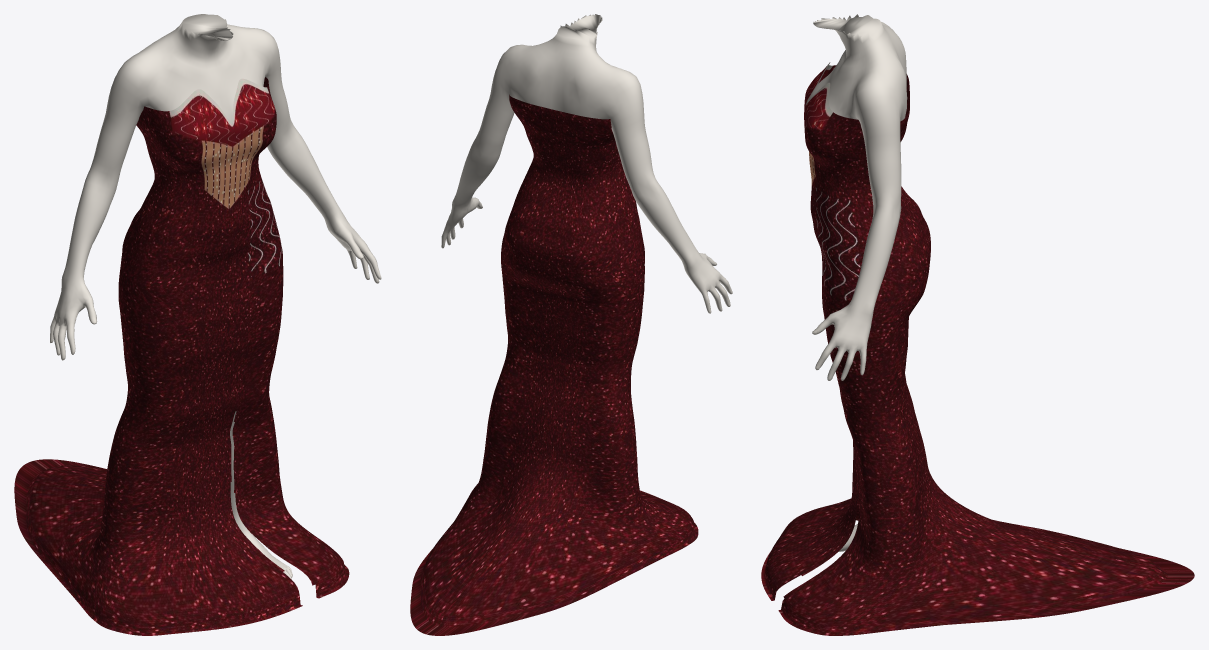
File: cgr-red-gown.glb
3 renders of one model, left to right at view 1: azimuth 30°, elevation 25°; view 2: azimuth 150°, elevation 25°; view 3: azimuth 270°, elevation 25°, orthographic. The views are drawn at different scales.
Visible parts, largest first — view 1: CGR_red_gown, CC0_base_body_dressform; view 2: CGR_red_gown, CC0_base_body_dressform; view 3: CGR_red_gown, CC0_base_body_dressform.
Part boxes in pixels (x1,y1,x2,y2): CGR_red_gown: (14, 77, 349, 635); CC0_base_body_dressform: (50, 14, 381, 579); CGR_red_gown: (410, 94, 698, 635); CC0_base_body_dressform: (441, 14, 732, 313); CGR_red_gown: (761, 62, 1194, 635); CC0_base_body_dressform: (808, 14, 907, 551).
Size of the model in its own units: 0.8422 by 1.43 by 1.02.
Materials: 2 (1 with a texture image).
